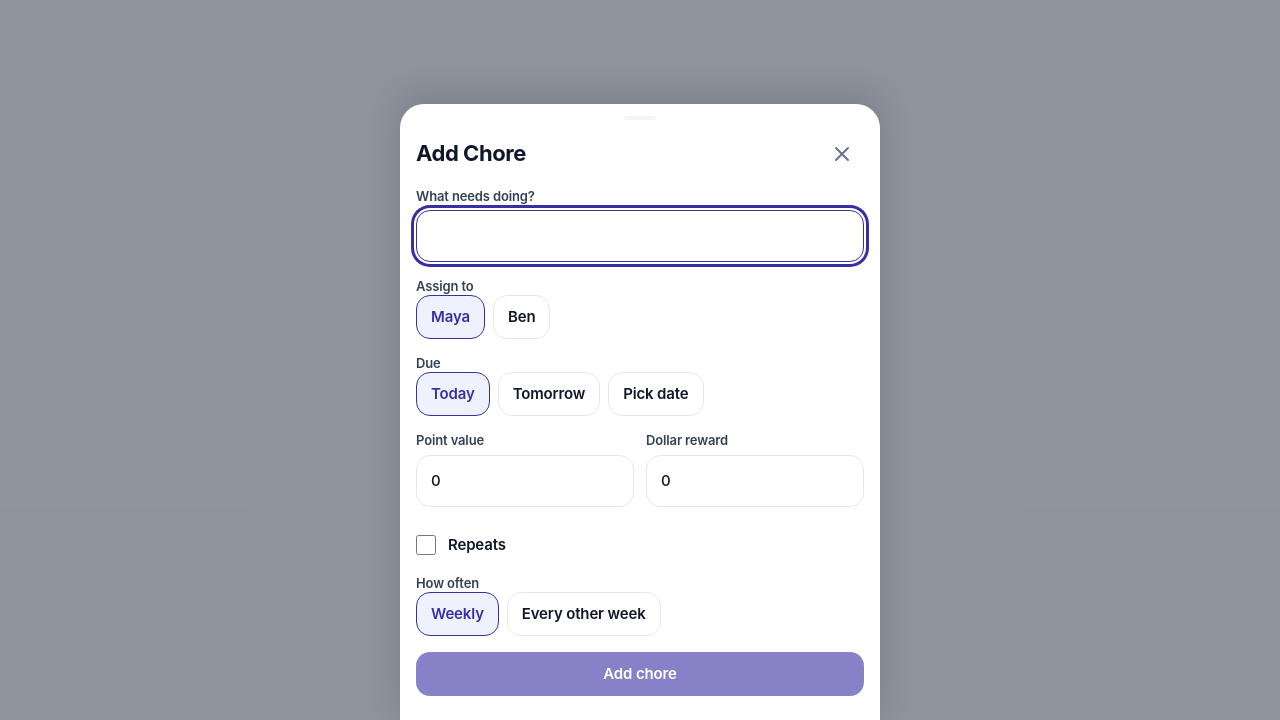
AddChore — a11y: visible labels (no aria-label override) + inputmode › the "Pick date" native date input has a VISIBLE label (associated, not aria-label only)
// Reveal the date input via the "Pick date" radio.
Click the radio button labelled "Pick date".
click(656, 394)  # box 608,372 -> 704,416
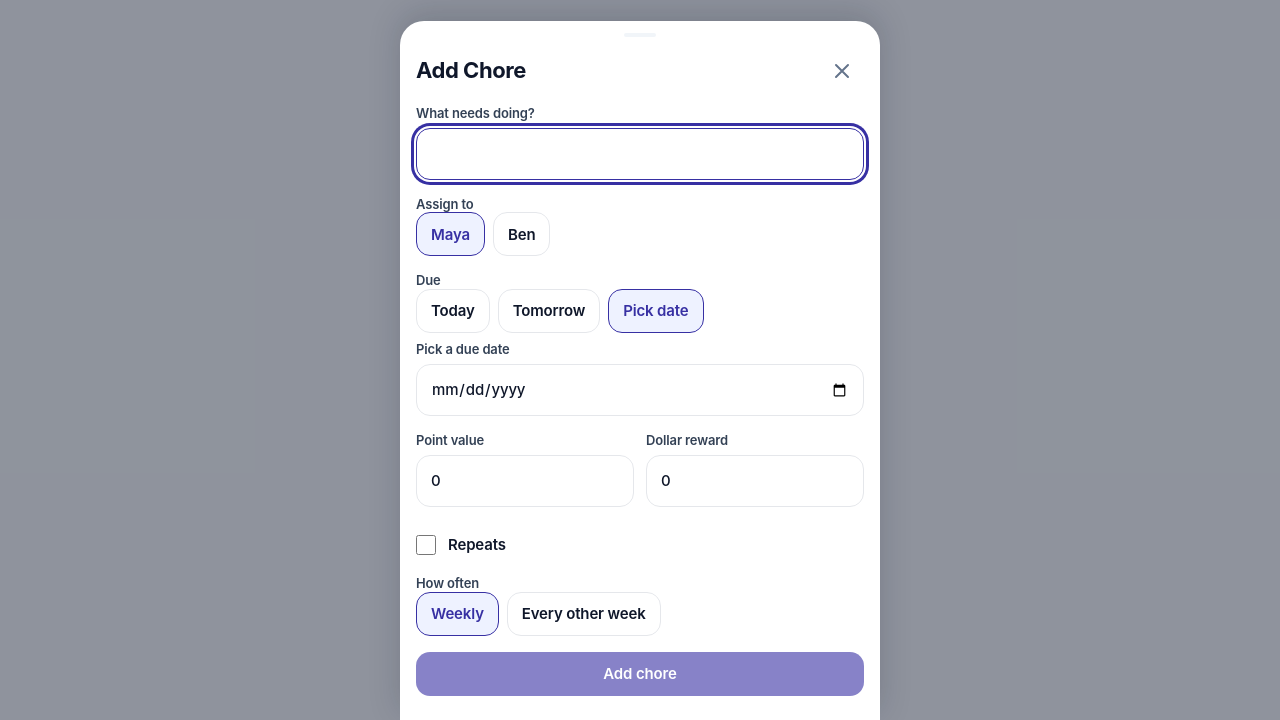
expect the date field labelled "Pick a due date" is shown: met, box 431,378 -> 849,402
